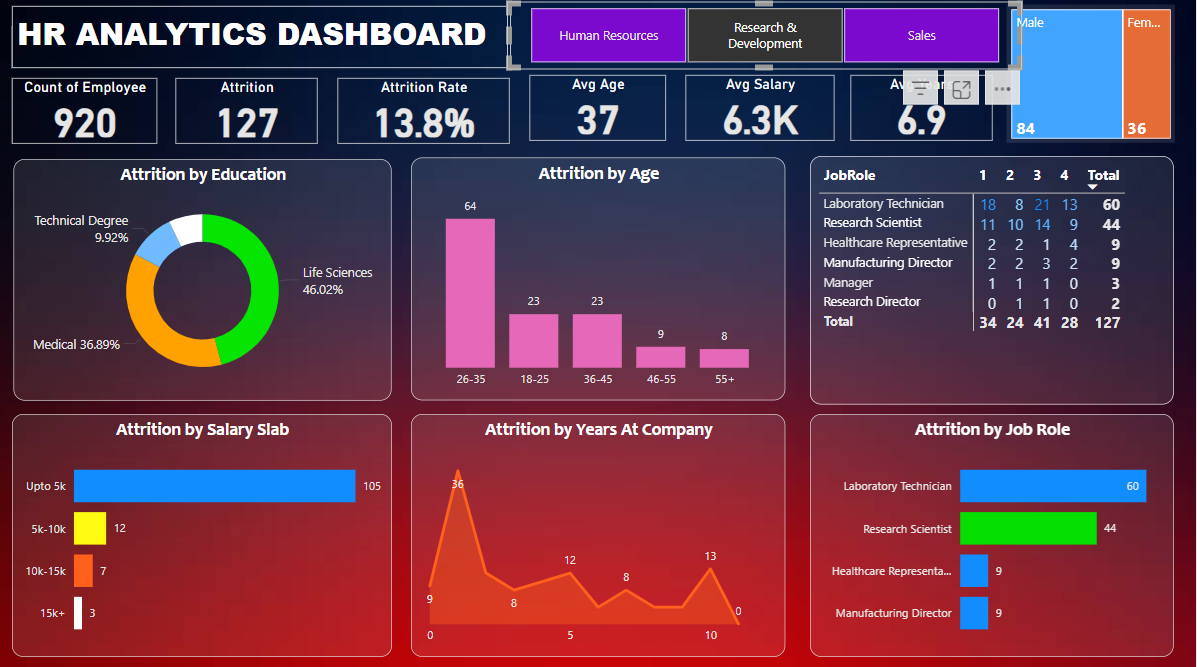

What the dashboard file says about the page in this screenshot:
{"tool":"powerbi","page":{"name":"Page 1","canvas":[1280,720],"ordinal":0},"visuals":[{"type":"card","title":"Count of Employee","fields":{"Values":["CountNonNull(HR_Analytics.EmpID)"]},"box":[18.9,88.8,155,69.9],"z":0},{"type":"card","title":"Attrition","fields":{"Values":["Sum(HR_Analytics.AttritonCount)"]},"box":[192.8,88.8,151.2,69.9],"z":1000},{"type":"card","title":"Attrition Rate","fields":{"Values":["HR_Analytics.AttritionRate"]},"box":[366.6,88.8,183.3,69.9],"z":2000},{"type":"card","title":"Avg Age","fields":{"Values":["Avg(HR_Analytics.Age)"]},"box":[570.7,86.9,145.5,69.9],"z":3000},{"type":"card","title":"Avg Salary","fields":{"Values":["Avg(HR_Analytics.MonthlyIncome)"]},"box":[737,86.9,158.7,69.9],"z":4000},{"type":"card","title":"Avg Years","fields":{"Values":["Avg(HR_Analytics.YearsAtCompany)"]},"box":[912.8,86.9,151.2,69.9],"z":5000},{"type":"donutChart","title":"Attrition by Education","fields":{"Category":["HR_Analytics.EducationField"],"Y":["Sum(HR_Analytics.Education)"]},"box":[20.8,175.7,402.5,257],"z":6000},{"type":"columnChart","title":"Attrition by Age","fields":{"Category":["HR_Analytics.AgeGroup"],"Y":["Sum(HR_Analytics.AttritonCount)"]},"box":[444.1,173.9,398.7,258.9],"z":7000},{"type":"pivotTable","fields":{"Rows":["HR_Analytics.JobRole"],"Columns":["HR_Analytics.JobSatisfaction"],"Values":["Sum(HR_Analytics.AttritonCount)"]},"box":[869.3,172,387.4,264.6],"z":8000},{"type":"barChart","title":"Attrition by Salary Slab","fields":{"Category":["HR_Analytics.SalarySlab"],"Y":["Sum(HR_Analytics.AttritonCount)"]},"box":[18.9,447.9,404.4,258.9],"z":9000},{"type":"barChart","title":"Attrition by Job Role","fields":{"Y":["Sum(HR_Analytics.AttritonCount)"],"Category":["HR_Analytics.JobRole"]},"box":[869.3,447.9,387.4,258.9],"z":10000},{"type":"areaChart","title":"Attrition by Years At Company","fields":{"Category":["HR_Analytics.YearsAtCompany"],"Y":["Sum(HR_Analytics.AttritonCount)"]},"box":[444.1,447.9,398.7,258.9],"z":11000},{"type":"treemap","title":"Attrition by Age","fields":{"Group":["HR_Analytics.Gender"],"Values":["Sum(HR_Analytics.AttritonCount)"]},"box":[1079.1,11.3,179.5,147.4],"z":12000},{"type":"slicer","fields":{"Values":["HR_Analytics.Department"]},"box":[546.1,7.6,548,71.8],"z":13000},{"type":"textbox","box":[18.9,13.2,531,66.1],"z":13001}]}

Visuals, with their boxes in screenshot pixels (x1, y1, x2, y2), scaled from the page's 1280x720 canvas onto the 1197x667 screenshot:
"Count of Employee" card: l=18, t=82, r=163, b=147
"Attrition" card: l=180, t=82, r=322, b=147
"Attrition Rate" card: l=343, t=82, r=514, b=147
"Avg Age" card: l=534, t=81, r=670, b=145
"Avg Salary" card: l=689, t=81, r=838, b=145
"Avg Years" card: l=854, t=81, r=995, b=145
"Attrition by Education" donutChart: l=19, t=163, r=396, b=401
"Attrition by Age" columnChart: l=415, t=161, r=788, b=401
pivotTable - HR_Analytics.JobRole x HR_Analytics.JobSatisfaction: l=813, t=159, r=1175, b=404
"Attrition by Salary Slab" barChart: l=18, t=415, r=396, b=655
"Attrition by Job Role" barChart: l=813, t=415, r=1175, b=655
"Attrition by Years At Company" areaChart: l=415, t=415, r=788, b=655
"Attrition by Age" treemap: l=1009, t=10, r=1177, b=147
slicer - HR_Analytics.Department: l=511, t=7, r=1023, b=74
textbox: l=18, t=12, r=514, b=73
